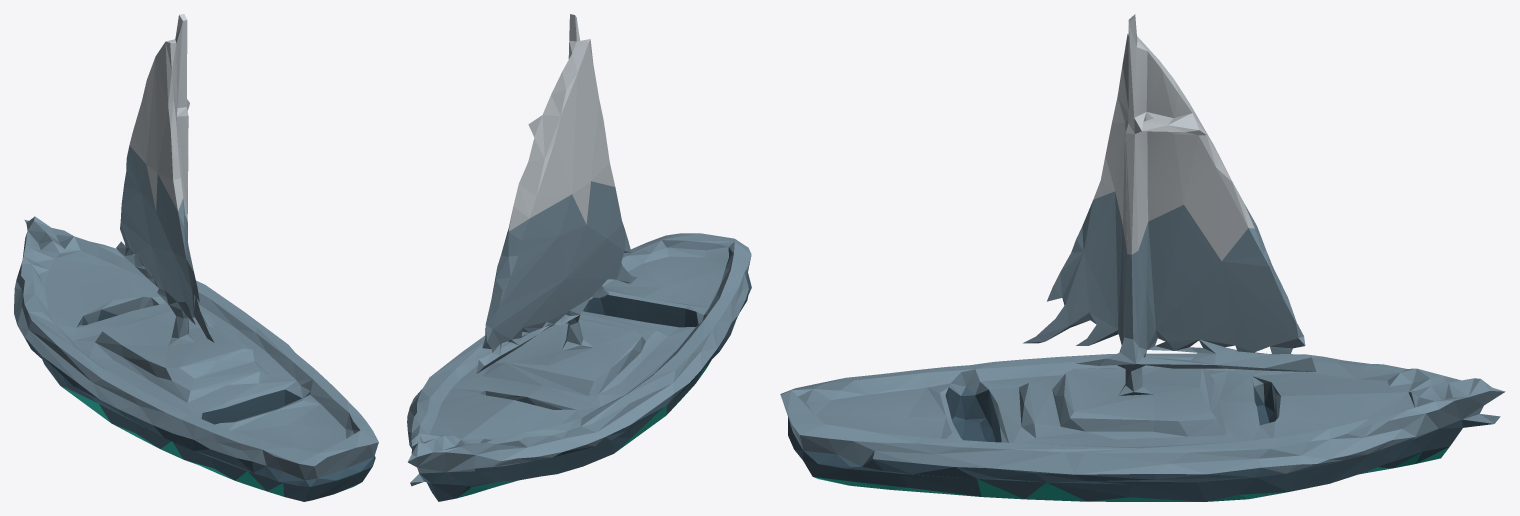
Rendered from sailing.glb.
3 views of the same model, side by side, from view 1: azimuth 30°, elevation 25°; view 2: azimuth 150°, elevation 25°; view 3: azimuth 270°, elevation 25° (orthographic). The views are drawn at different scales.
Visible parts, largest first — view 1: lod0; view 2: lod0; view 3: lod0.
Part boxes in pixels (left/top/right/bottom): lod0: left=14, top=14, right=378, bottom=501; lod0: left=407, top=14, right=751, bottom=501; lod0: left=780, top=14, right=1505, bottom=501.
Size of what is drawn, in the model's own units: 0.3587 by 0.6655 by 0.9871.
